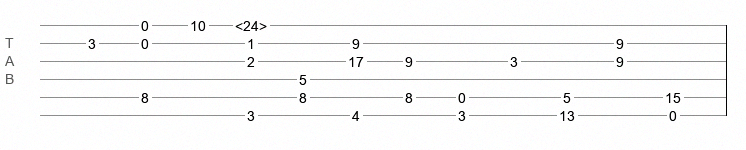0: (141, 36, 149, 46), (141, 18, 149, 28), (458, 90, 466, 100), (669, 108, 677, 118)
1: (247, 36, 255, 46)
10: (190, 18, 206, 28)
13: (559, 108, 575, 118)
15: (665, 90, 681, 100)
17: (348, 54, 364, 64)
2: (247, 54, 255, 64)
3: (88, 36, 96, 46), (247, 108, 255, 118), (458, 108, 466, 118), (510, 54, 518, 64)
4: (352, 108, 360, 118)
5: (299, 72, 307, 82), (563, 90, 571, 100)
8: (141, 90, 149, 100), (299, 90, 307, 100), (405, 90, 413, 100)
9: (352, 36, 360, 46), (405, 54, 413, 64), (616, 36, 624, 46), (616, 54, 624, 64)
harmonic: (235, 18, 267, 28)
